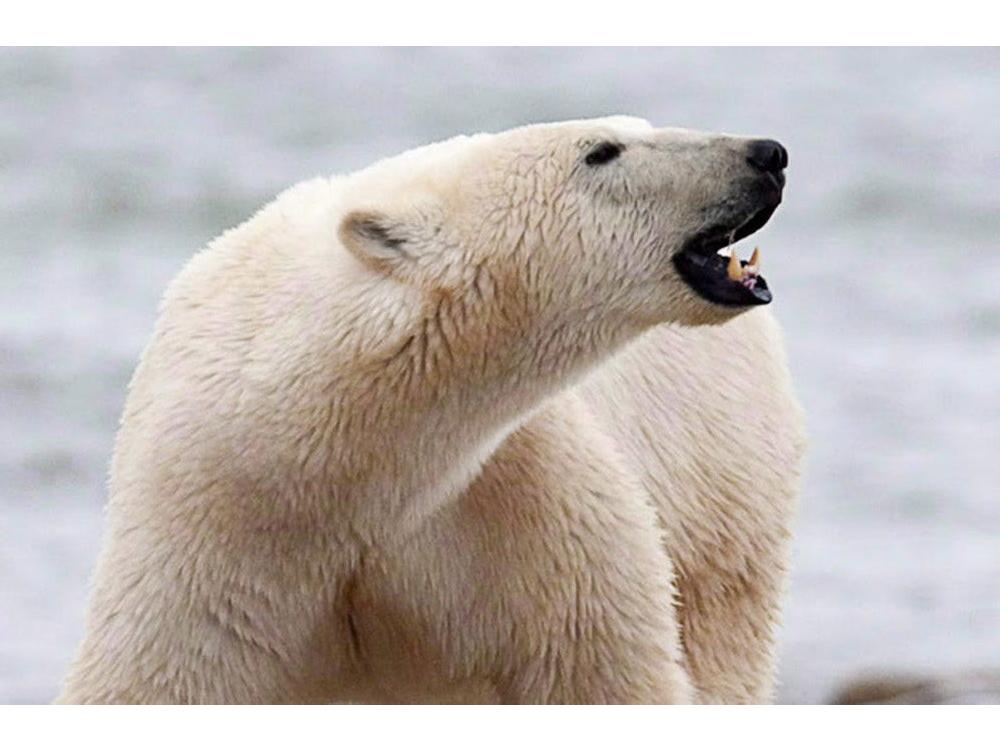Polar Bear: (77, 51, 904, 724)
